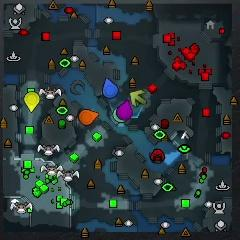p1: (103, 79, 118, 98)
p2: (113, 108, 125, 122)
p3: (117, 100, 132, 120)
p4: (24, 92, 40, 113)
p5: (80, 110, 99, 125)
x2: (130, 90, 147, 107)
